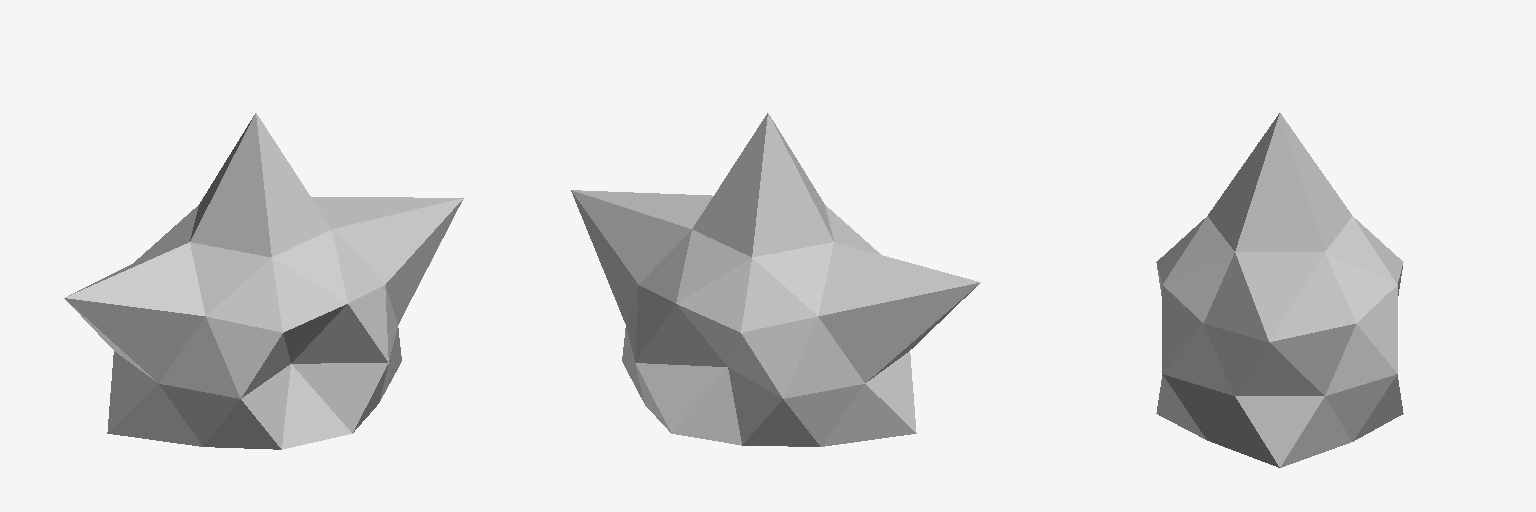
Rendered from ene.obj.
3 views of the same model, side by side, from view 1: azimuth 30°, elevation 25°; view 2: azimuth 150°, elevation 25°; view 3: azimuth 270°, elevation 25° (orthographic).
Visible parts, largest first — view 1: ICO球; view 2: ICO球; view 3: ICO球.
Boxes of the visible parts, <box> form: ICO球: <box>64,113,463,449</box>; ICO球: <box>571,113,980,446</box>; ICO球: <box>1156,113,1403,467</box>.
Size of the model in its own units: 5.09 by 3.45 by 2.69.